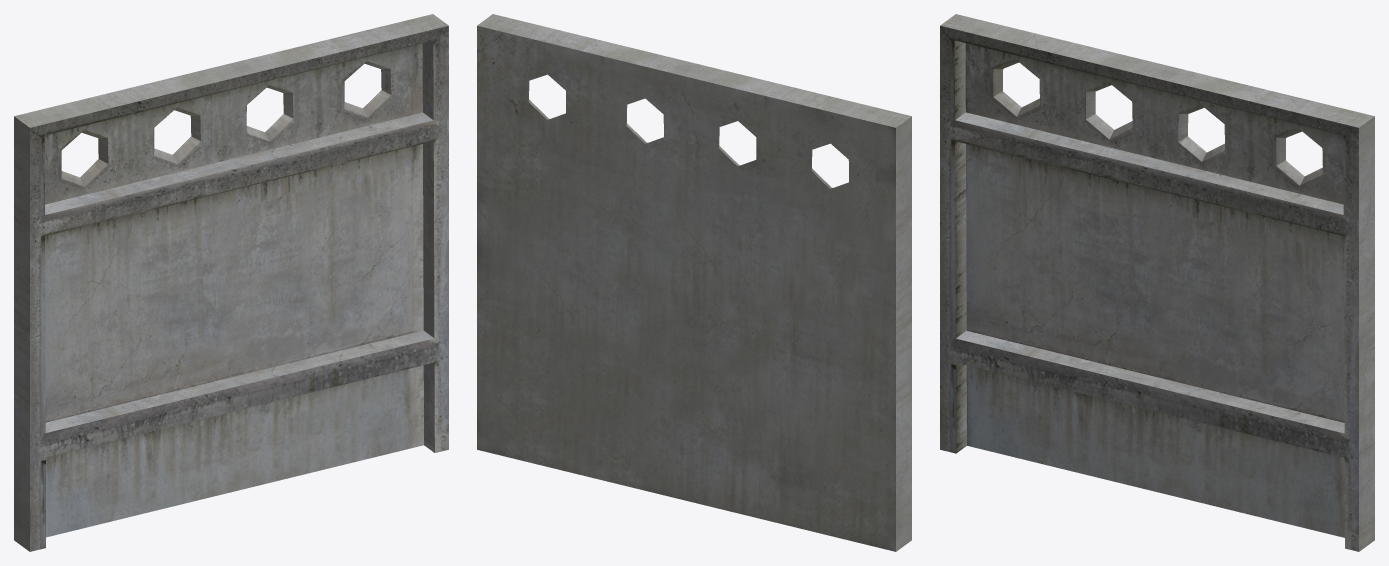
3 renders of one model, left to right at view 1: azimuth 30°, elevation 25°; view 2: azimuth 150°, elevation 25°; view 3: azimuth 330°, elevation 25°, orthographic.
Visible parts, largest first — view 1: Zabor_06; view 2: Zabor_06; view 3: Zabor_06.
Part boxes in pixels (<box>): Zabor_06: <box>14,14,448,551</box>; Zabor_06: <box>477,14,911,551</box>; Zabor_06: <box>940,14,1374,551</box>.
Size of the model in its own units: 214 by 207 by 14.07.
